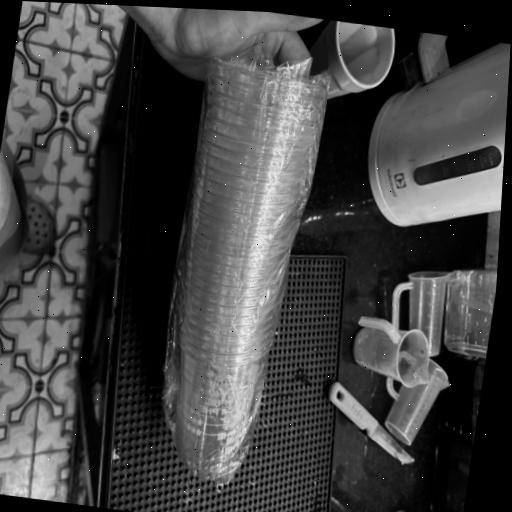ly_nhua: (162, 46, 326, 485)
